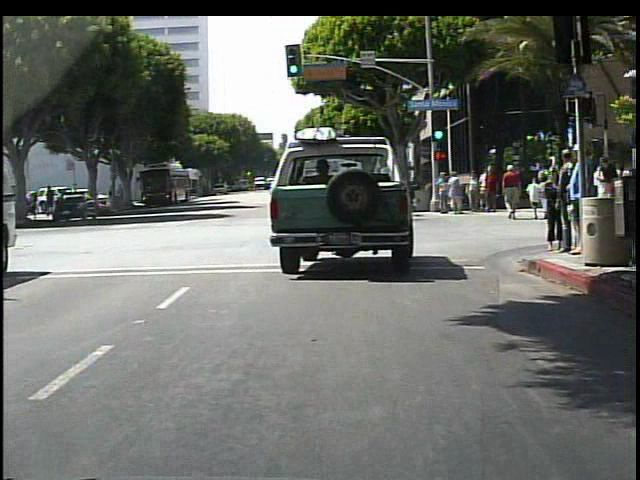person: (566, 144, 592, 263), (541, 163, 567, 252), (557, 149, 574, 256), (523, 170, 549, 225), (504, 164, 524, 223), (541, 168, 557, 219), (451, 170, 466, 217), (473, 170, 487, 212), (488, 168, 501, 213), (438, 171, 450, 215), (481, 166, 492, 211), (107, 184, 118, 208), (117, 184, 126, 210)
